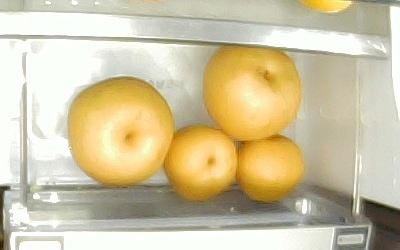pear: (66, 75, 175, 185), (202, 43, 300, 139), (164, 125, 238, 199), (237, 134, 303, 201)
